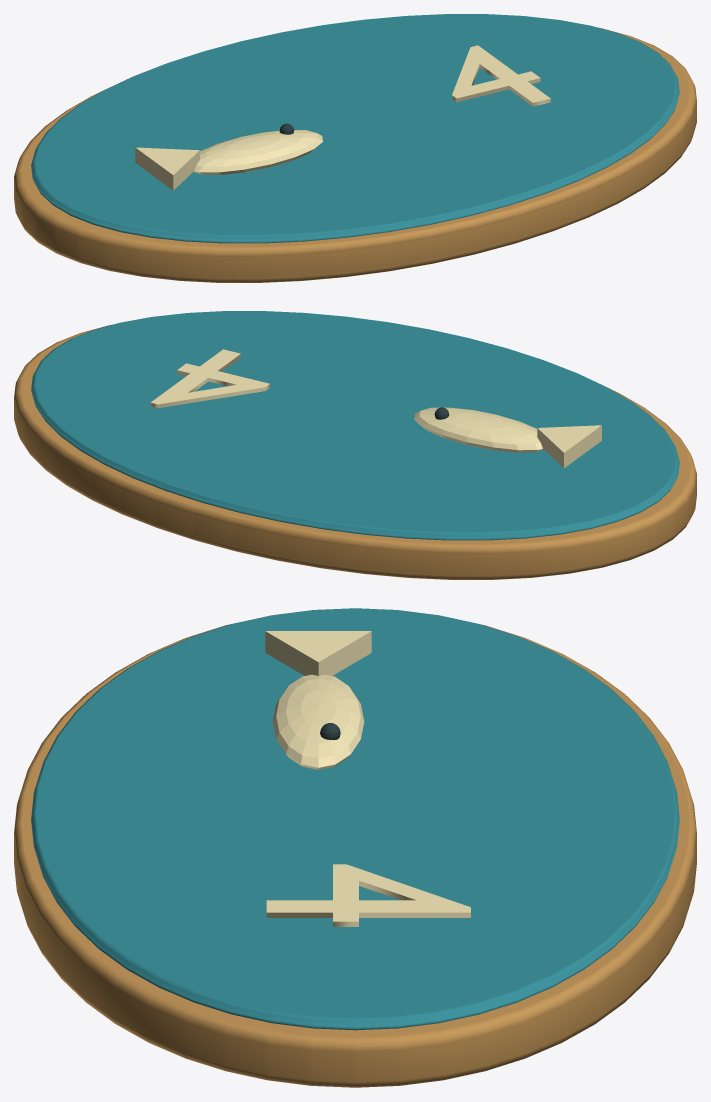
The model's file is ground-4.fbx.
The picture shows the model from 3 angles, top to bottom: view 1: azimuth 30°, elevation 25°; view 2: azimuth 150°, elevation 25°; view 3: azimuth 270°, elevation 25°; orthographic projection. The views are drawn at different scales.
Parts seen in each view (by area): view 1: ground-4; view 2: ground-4; view 3: ground-4.
Boxes of the visible parts, bbox=[...] form: ground-4: bbox=[14, 14, 696, 282]; ground-4: bbox=[14, 311, 696, 579]; ground-4: bbox=[14, 608, 696, 1087].
Bounding box in the file's own units: 2.8 × 0.288 × 1.85.
